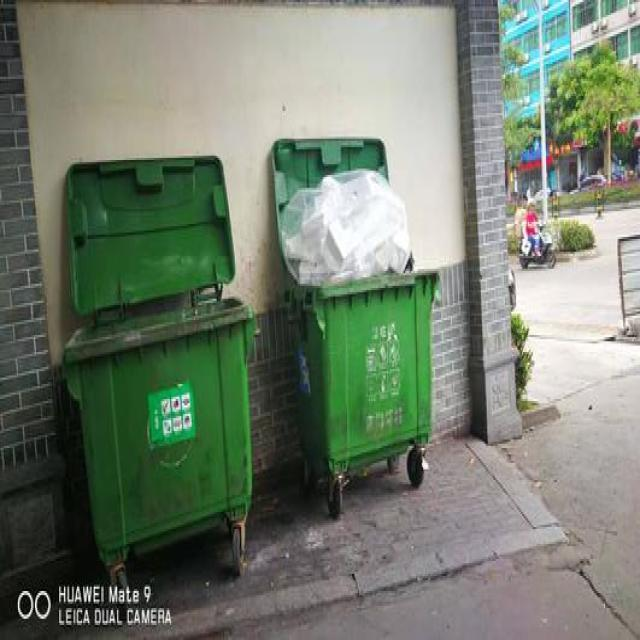garbage_bin: (58, 294, 253, 561)
overflow: (281, 168, 437, 470)
